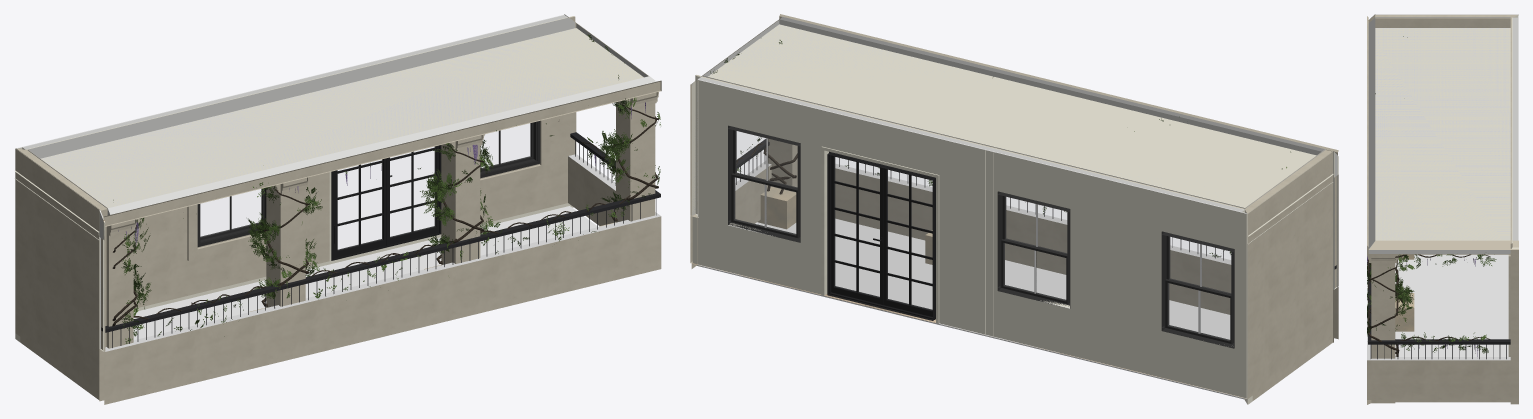
The model's file is front-balcony-cd8aa0b4c39f.glb.
3 renders of one model, left to right at view 1: azimuth 30°, elevation 25°; view 2: azimuth 150°, elevation 25°; view 3: azimuth 270°, elevation 25°, orthographic. The views are drawn at different scales.
Parts seen in each view (by area): view 1: front-balcony-0ac23dde8d2f7c54, front-balcony-b39baa29700ae605, front-balcony-f6a7cfeba332478b, front-balcony-62353aa10fc57f23, front-balcony-b0ade14315e4f1c3, front-balcony-a23576649cd80f6c, front-balcony-dbd60ee5c3733ed6, front-balcony-24022e0f0167e9d7, front-balcony-d70d42a253f78e60, front-balcony-42fce09358828e49, front-balcony-41597b955207c1bc, front-balcony-f0f007964d256d2c (+10 smaller); view 2: front-balcony-b0ade14315e4f1c3, front-balcony-0ac23dde8d2f7c54, front-balcony-62353aa10fc57f23, front-balcony-b39baa29700ae605, front-balcony-dbd60ee5c3733ed6, front-balcony-60f0db96f832035a, front-balcony-b5cb73c07919def8, front-balcony-e1735639a83d20d7, front-balcony-42fce09358828e49, front-balcony-d70d42a253f78e60, front-balcony-f6a7cfeba332478b, front-balcony-a23576649cd80f6c (+7 smaller); view 3: front-balcony-0ac23dde8d2f7c54, front-balcony-f6a7cfeba332478b, front-balcony-dbd60ee5c3733ed6, front-balcony-dc9de07e6ba3b47a, front-balcony-a23576649cd80f6c, front-balcony-41597b955207c1bc, front-balcony-b0ade14315e4f1c3, front-balcony-62353aa10fc57f23, front-balcony-adb6f49a6d2cbec3, front-balcony-8ce6cdf114d83750, front-balcony-24022e0f0167e9d7, front-balcony-19165bb3a07bed8e (+3 smaller).
Boxes of the visible parts, x1,y1,x2,y2 form: front-balcony-0ac23dde8d2f7c54: [28, 18, 656, 215]; front-balcony-b39baa29700ae605: [99, 215, 661, 404]; front-balcony-f6a7cfeba332478b: [41, 28, 640, 207]; front-balcony-62353aa10fc57f23: [15, 148, 107, 400]; front-balcony-b0ade14315e4f1c3: [16, 15, 575, 308]; front-balcony-a23576649cd80f6c: [112, 34, 660, 343]; front-balcony-dbd60ee5c3733ed6: [133, 206, 597, 340]; front-balcony-24022e0f0167e9d7: [103, 80, 661, 226]; front-balcony-d70d42a253f78e60: [334, 158, 385, 258]; front-balcony-42fce09358828e49: [386, 145, 440, 245]; front-balcony-41597b955207c1bc: [616, 102, 655, 222]; front-balcony-f0f007964d256d2c: [266, 187, 305, 307]; front-balcony-b0ade14315e4f1c3: [692, 75, 1247, 398]; front-balcony-0ac23dde8d2f7c54: [702, 17, 1325, 208]; front-balcony-62353aa10fc57f23: [1244, 149, 1332, 404]; front-balcony-b39baa29700ae605: [835, 163, 1338, 342]; front-balcony-dbd60ee5c3733ed6: [701, 218, 1244, 399]; front-balcony-60f0db96f832035a: [1161, 231, 1234, 348]; front-balcony-b5cb73c07919def8: [997, 191, 1070, 308]; front-balcony-e1735639a83d20d7: [728, 125, 800, 242]; front-balcony-42fce09358828e49: [831, 155, 883, 304]; front-balcony-d70d42a253f78e60: [883, 168, 932, 316]; front-balcony-f6a7cfeba332478b: [709, 24, 1252, 204]; front-balcony-a23576649cd80f6c: [710, 40, 1290, 264]; front-balcony-0ac23dde8d2f7c54: [1368, 17, 1510, 253]; front-balcony-f6a7cfeba332478b: [1368, 28, 1510, 254]; front-balcony-dbd60ee5c3733ed6: [1395, 254, 1510, 402]; front-balcony-dc9de07e6ba3b47a: [1367, 357, 1510, 399]; front-balcony-a23576649cd80f6c: [1367, 36, 1496, 356]; front-balcony-41597b955207c1bc: [1371, 264, 1395, 403]; front-balcony-b0ade14315e4f1c3: [1510, 15, 1518, 399]; front-balcony-62353aa10fc57f23: [1375, 15, 1518, 27]; front-balcony-adb6f49a6d2cbec3: [1510, 248, 1518, 360]; front-balcony-8ce6cdf114d83750: [1374, 339, 1510, 344]; front-balcony-24022e0f0167e9d7: [1367, 16, 1368, 254]; front-balcony-19165bb3a07bed8e: [1508, 254, 1510, 356].
Size of the model in its own units: 9.14 by 3 by 2.55.
Materials: 23 (7 with a texture image).
